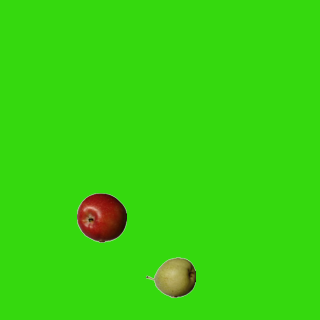Apple Braeburn: (76, 192, 126, 242)
Pear: (145, 252, 195, 302)
